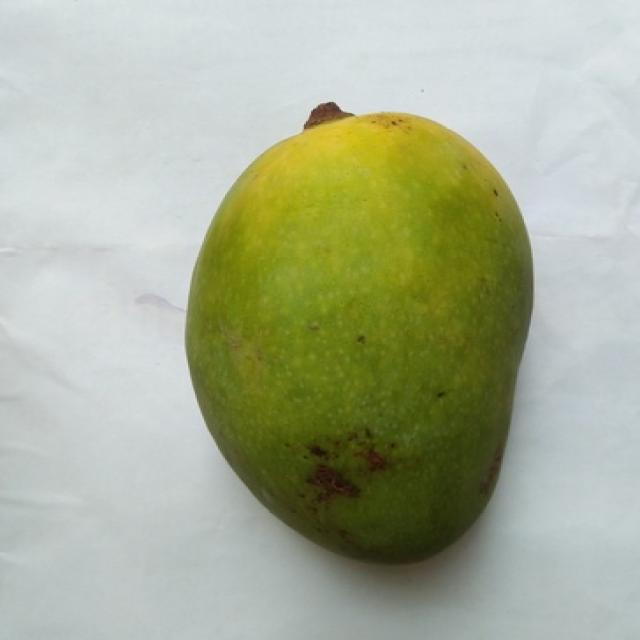Mango: (186, 103, 531, 562)
